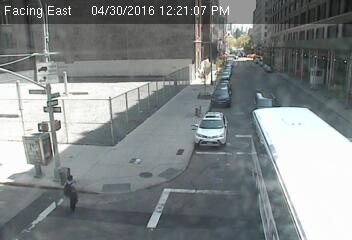neg: (82, 56, 97, 75), (314, 62, 328, 80)
pos: (54, 171, 84, 211)
